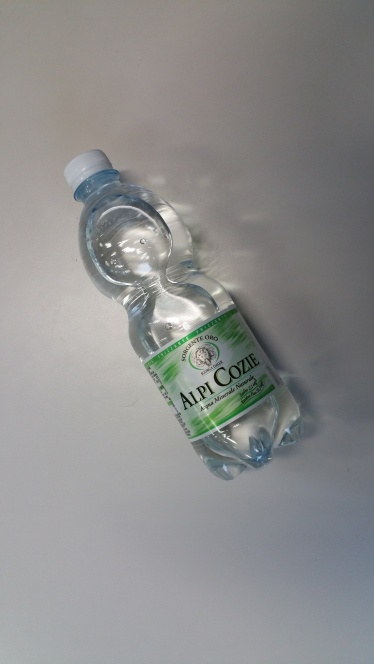bottle: (61, 142, 309, 484)
